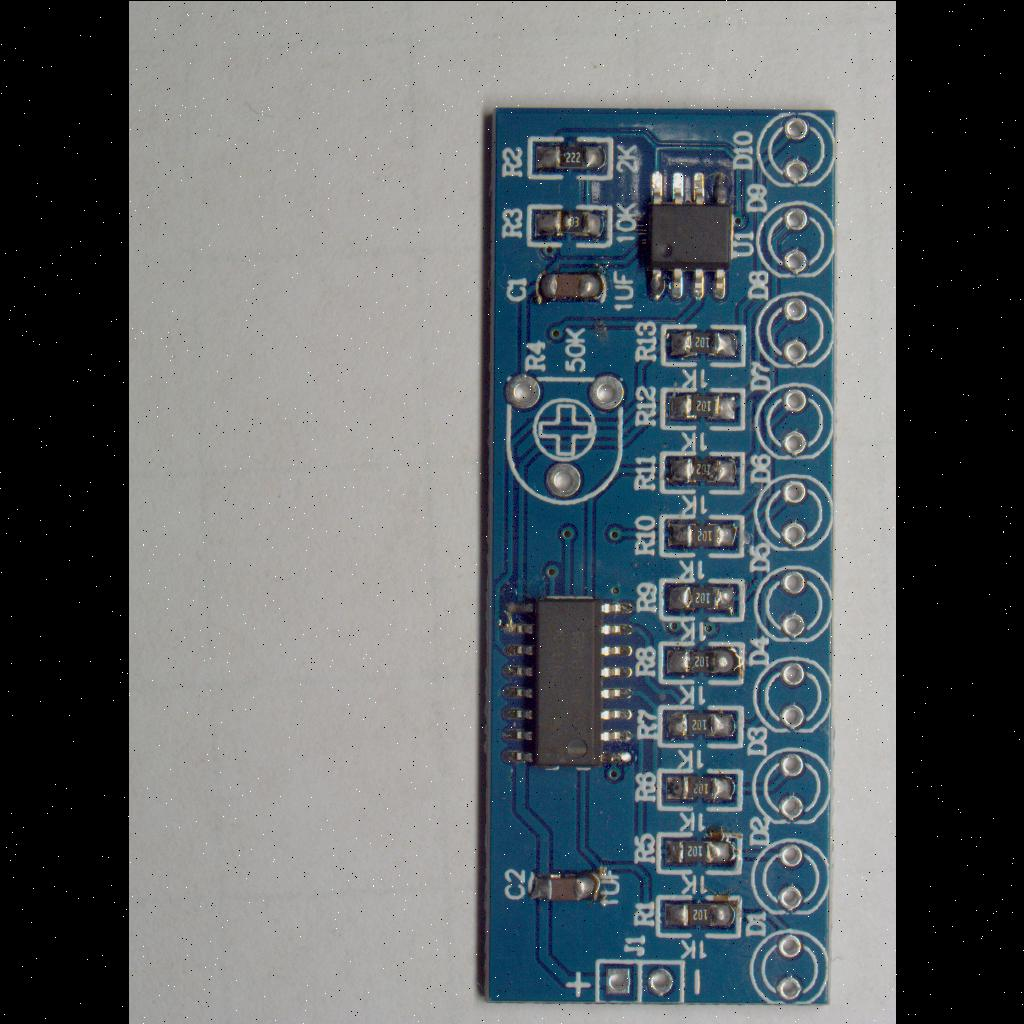OK: (492, 586, 642, 774), (634, 160, 742, 308), (654, 637, 748, 687), (650, 892, 746, 940), (524, 132, 616, 182), (656, 446, 748, 496), (653, 701, 747, 749), (654, 575, 748, 623), (656, 384, 750, 432), (652, 765, 744, 813), (656, 511, 748, 559), (523, 201, 615, 249), (652, 830, 746, 876), (658, 323, 750, 369), (522, 864, 614, 906), (530, 266, 612, 306)
